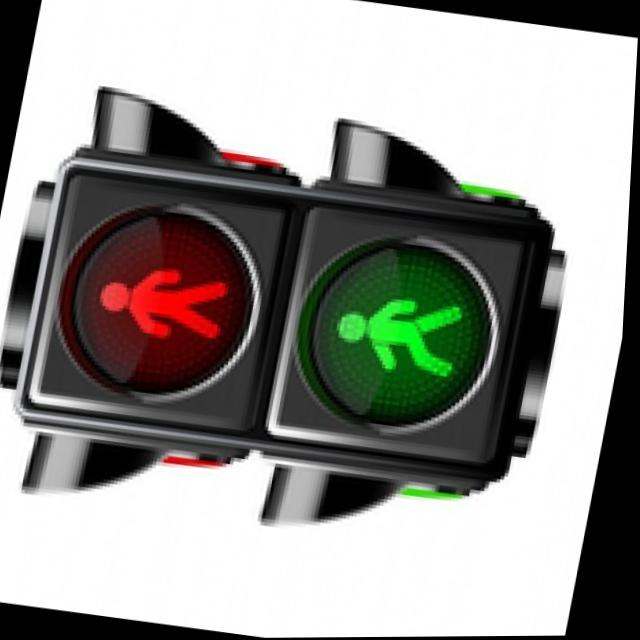red_light: (36, 156, 290, 444)
yellow_light: (280, 139, 599, 498)
